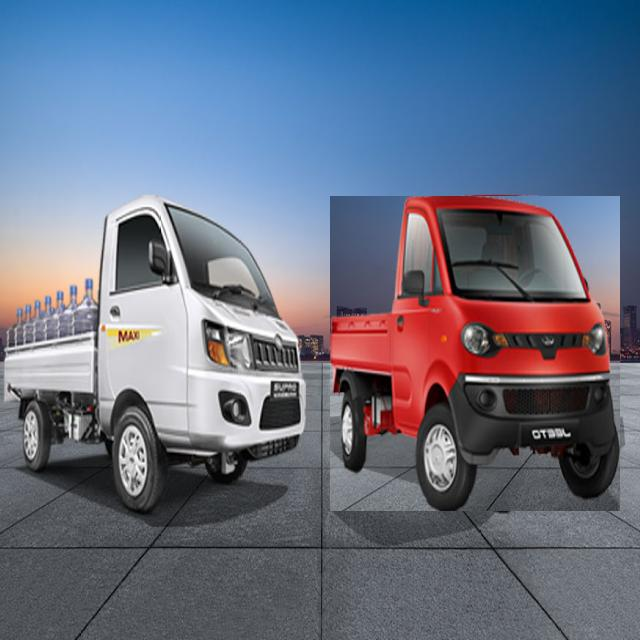truck: (4, 196, 306, 511), (330, 196, 620, 511)
